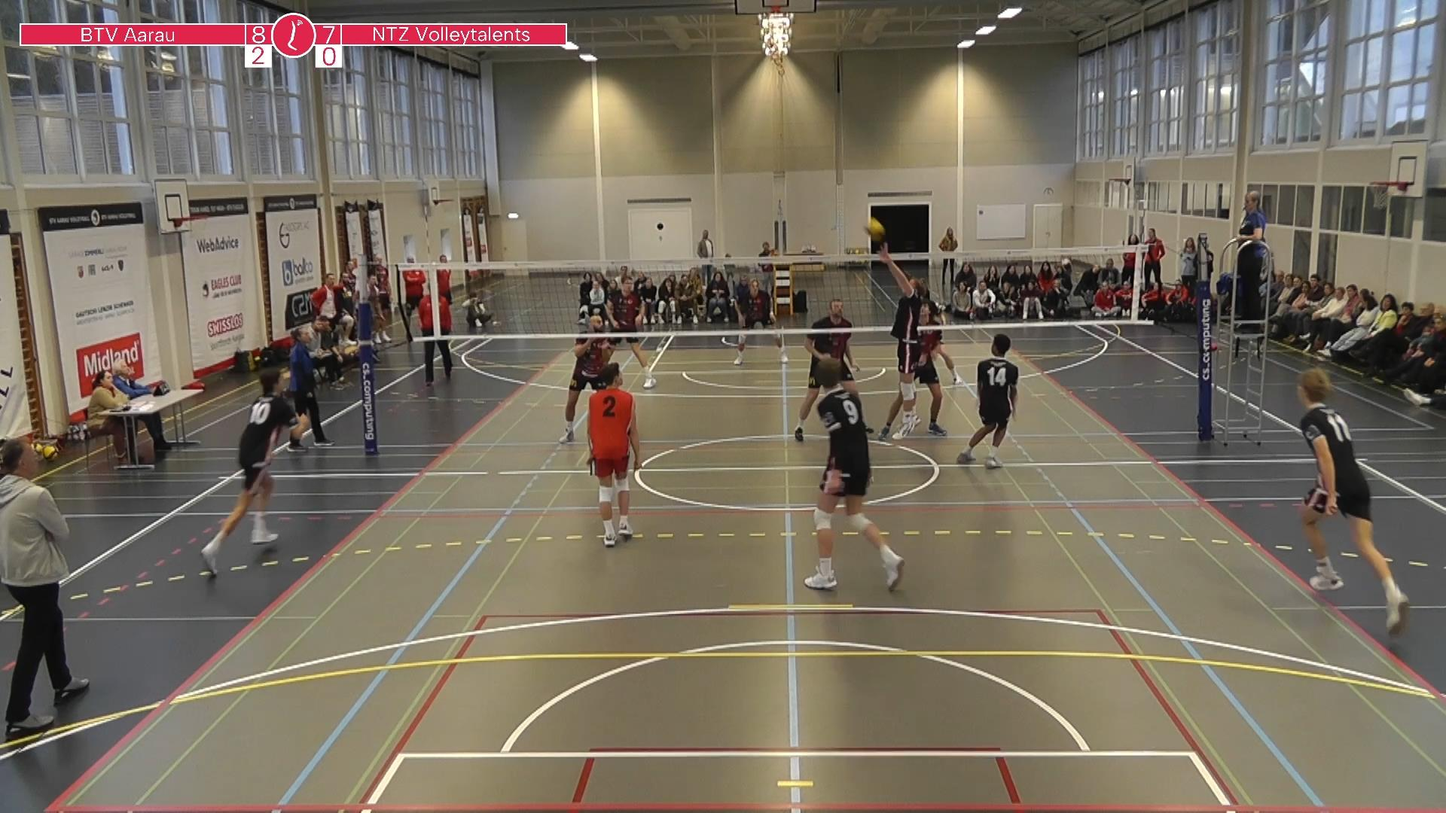alzata: (877, 244, 928, 442)
